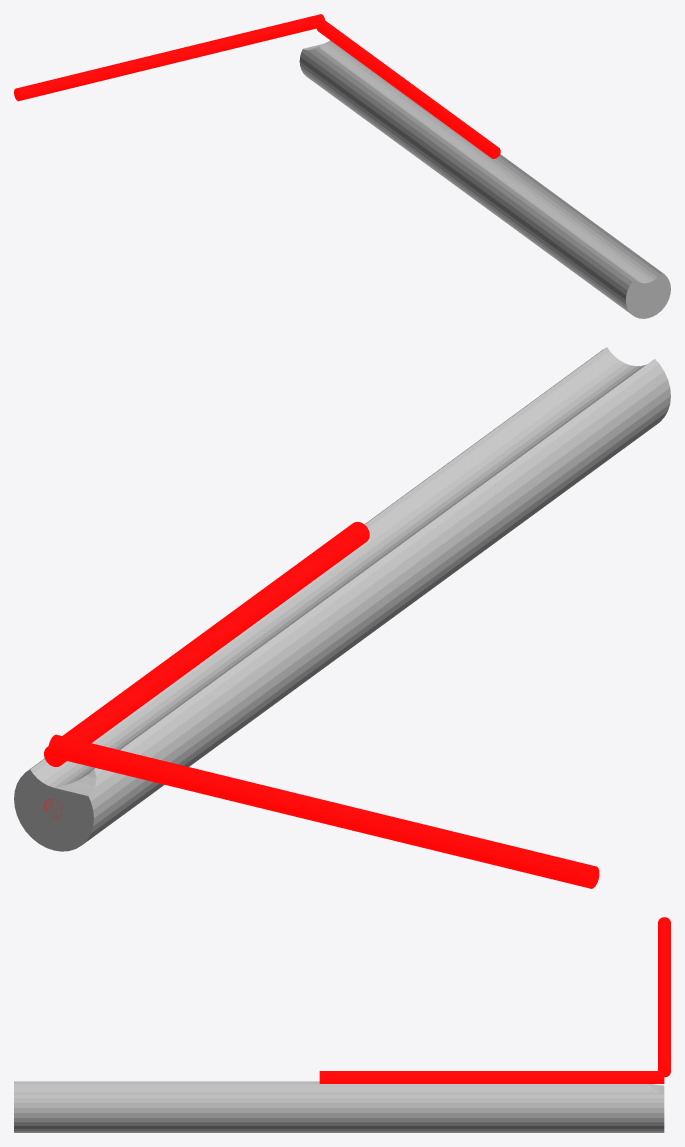
File: LOT129_7071e072.glb
3 renders of one model, top to bottom at view 1: azimuth 30°, elevation 25°; view 2: azimuth 150°, elevation 25°; view 3: azimuth 270°, elevation 25°, orthographic. The views are drawn at different scales.
Visible parts, largest first — view 1: 1200x1.219r_Obj, Cylinder.003, Cylinder.005; view 2: 1200x1.219r_Obj, Cylinder.003, Cylinder.005; view 3: 1200x1.219r_Obj, Cylinder.005, Cylinder.003.
Boxes of the visible parts, <box> form: 1200x1.219r_Obj: <box>299,40,670,318</box>; Cylinder.003: <box>14,14,325,101</box>; Cylinder.005: <box>316,21,500,158</box>; 1200x1.219r_Obj: <box>14,347,670,851</box>; Cylinder.003: <box>48,734,599,888</box>; Cylinder.005: <box>44,521,369,766</box>; 1200x1.219r_Obj: <box>14,1081,664,1132</box>; Cylinder.005: <box>319,1071,664,1083</box>; Cylinder.003: <box>658,917,670,1077</box>.
Bounding box in the file's own units: 2.9 × 0.55 × 5.05.
